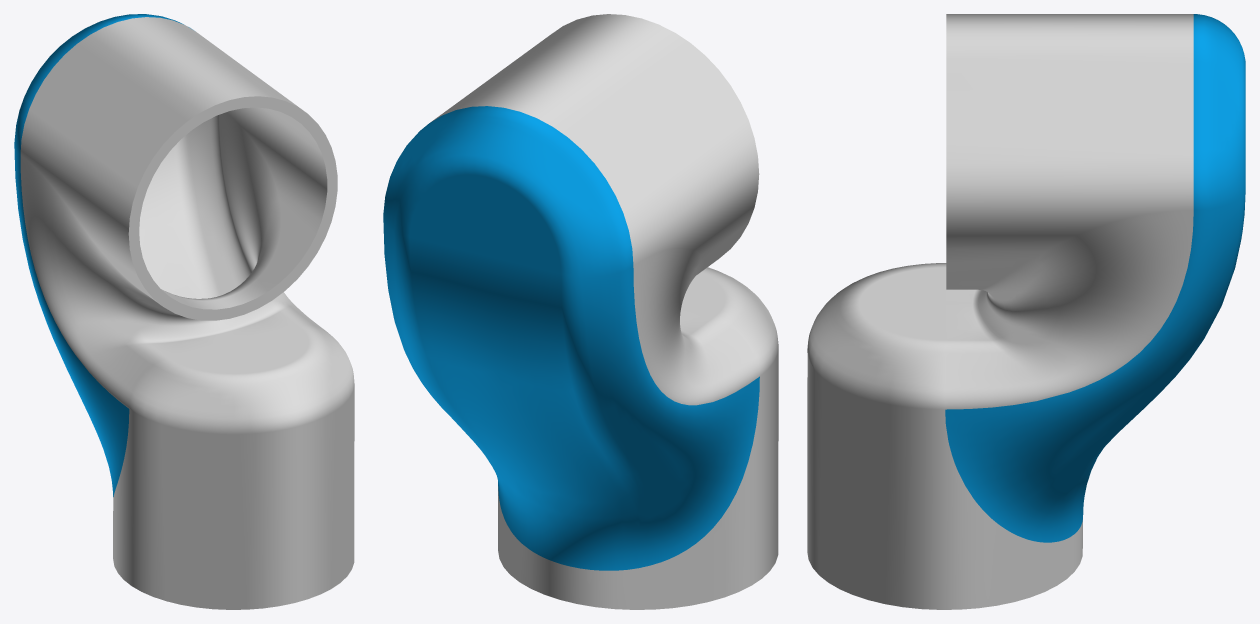
3 views of the same model, side by side, from view 1: azimuth 30°, elevation 25°; view 2: azimuth 150°, elevation 25°; view 3: azimuth 270°, elevation 25° (orthographic). The views are drawn at different scales.
Visible parts, largest first — view 1: stitch_result_stitch_all_001; view 2: stitch_result_stitch_all_001; view 3: stitch_result_stitch_all_001.
Part boxes in pixels (x1=…): stitch_result_stitch_all_001: x1=14, y1=14, x2=354, y2=609; stitch_result_stitch_all_001: x1=383, y1=14, x2=778, y2=609; stitch_result_stitch_all_001: x1=807, y1=14, x2=1245, y2=609.
Size of the model in its own units: 0.1061 by 0.1685 by 0.2225.
